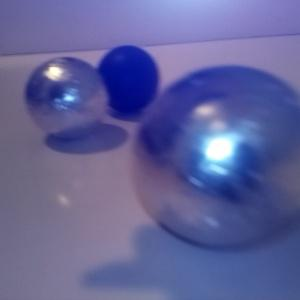alive_ball: (132, 64, 300, 249), (25, 55, 108, 140)
dead_ball: (94, 45, 160, 113)
